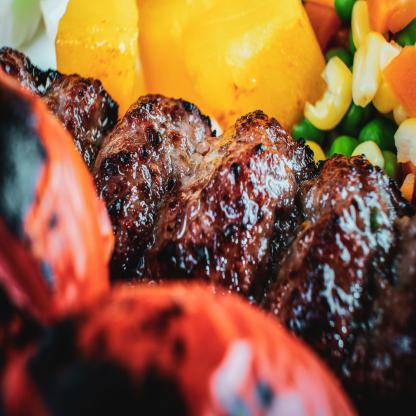Carne: (147, 109, 311, 279), (266, 150, 398, 336), (91, 89, 216, 281), (44, 65, 110, 156)
